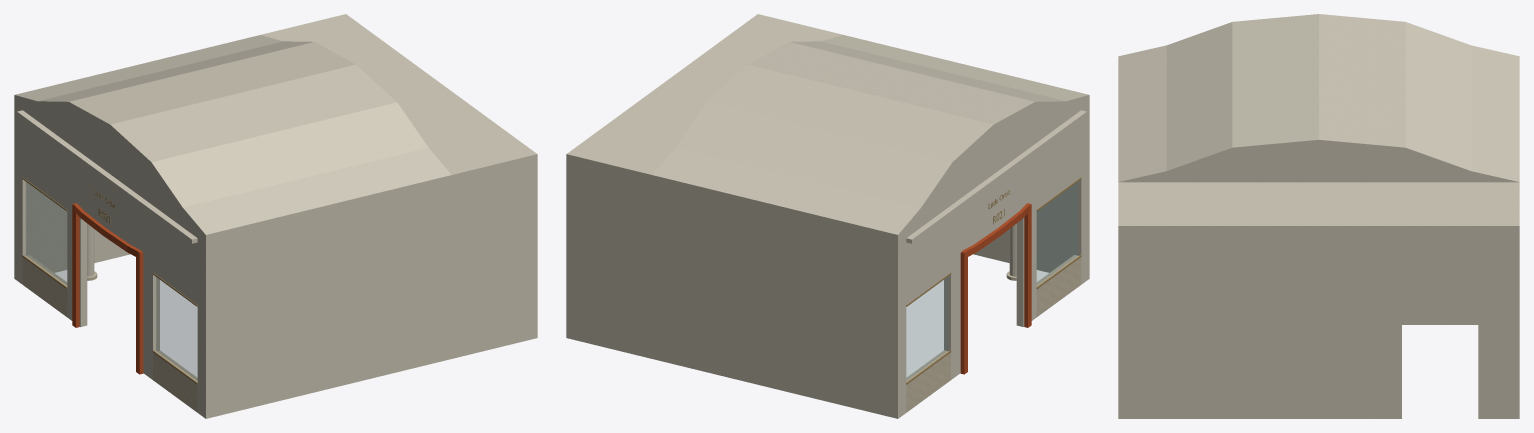
Rendered from SHOP_D09_P72_A262__shell.glb.
3 views of the same model, side by side, from view 1: azimuth 30°, elevation 25°; view 2: azimuth 150°, elevation 25°; view 3: azimuth 270°, elevation 25° (orthographic). The views are drawn at different scales.
Visible parts, largest first — view 1: SHOP_D09_P72_A262__shell__ivory_enamel, SHOP_D09_P72_A262__shell__shop_glass, SHOP_D09_P72_A262__shell__warm_stone, SHOP_D09_P72_A262__shell__retail_terracotta_enamel, SHOP_D09_P72_A262__shell__champagne_metal; view 2: SHOP_D09_P72_A262__shell__ivory_enamel, SHOP_D09_P72_A262__shell__shop_glass, SHOP_D09_P72_A262__shell__warm_stone, SHOP_D09_P72_A262__shell__retail_terracotta_enamel, SHOP_D09_P72_A262__shell__champagne_metal; view 3: SHOP_D09_P72_A262__shell__ivory_enamel.
Boxes of the visible parts, x1,y1,x2,y2 form: SHOP_D09_P72_A262__shell__ivory_enamel: [14, 14, 537, 418]; SHOP_D09_P72_A262__shell__shop_glass: [26, 182, 197, 380]; SHOP_D09_P72_A262__shell__warm_stone: [22, 255, 197, 412]; SHOP_D09_P72_A262__shell__retail_terracotta_enamel: [72, 203, 143, 374]; SHOP_D09_P72_A262__shell__champagne_metal: [22, 177, 197, 384]; SHOP_D09_P72_A262__shell__ivory_enamel: [566, 14, 1089, 418]; SHOP_D09_P72_A262__shell__shop_glass: [906, 182, 1077, 380]; SHOP_D09_P72_A262__shell__warm_stone: [906, 255, 1081, 412]; SHOP_D09_P72_A262__shell__retail_terracotta_enamel: [960, 203, 1031, 374]; SHOP_D09_P72_A262__shell__champagne_metal: [906, 177, 1081, 384]; SHOP_D09_P72_A262__shell__ivory_enamel: [1118, 14, 1519, 418].
Bounding box in the file's own units: 11.86 × 7.5 × 11.6.
Materials: 6 (4 with a texture image).
